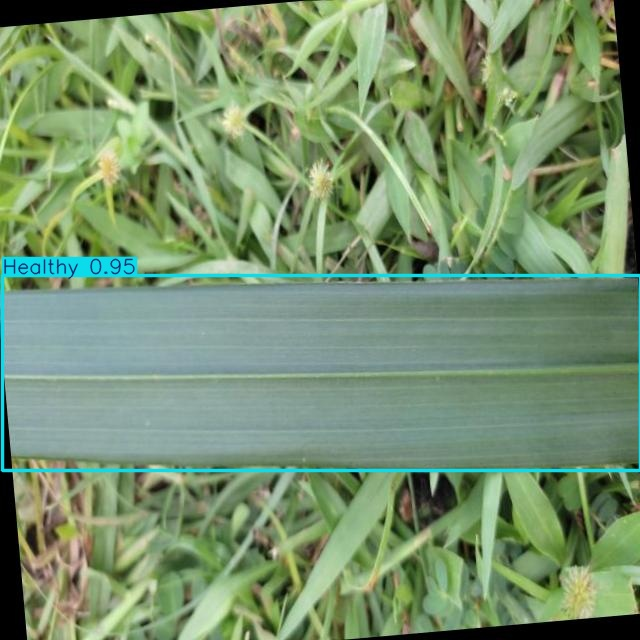Healthy: (2, 276, 640, 471)
